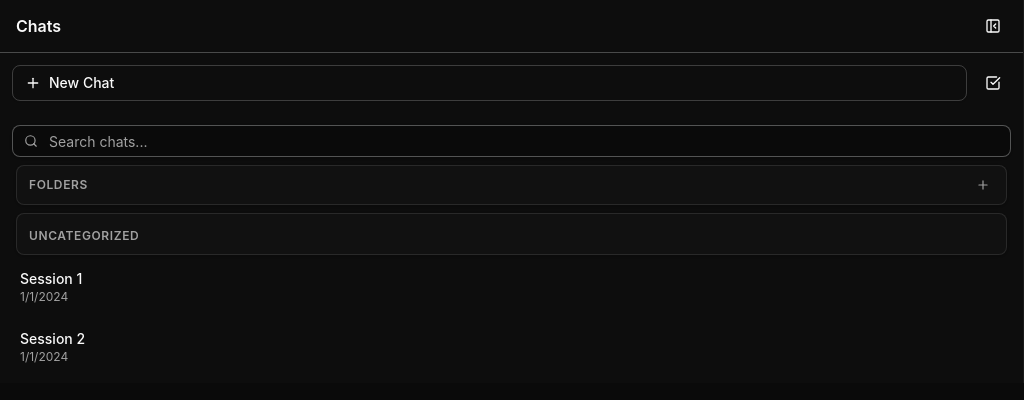
Test: SessionList › Search › should wrap around when navigating past last result
Type "Session" into the search field with placeholder "Search chats..." at (512, 141), box left=12, top=125, right=1011, bottom=157
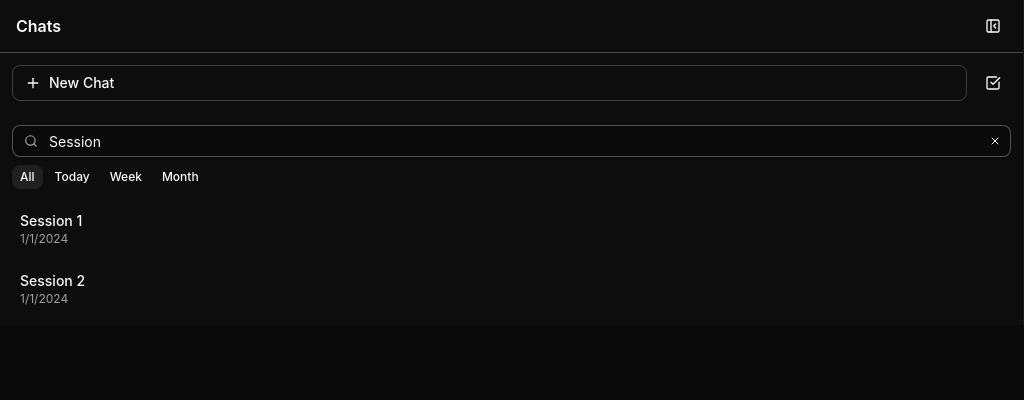
Note: Navigate down 3 times (2 sessions + wrap to first)
Press ArrowDown in the search field with placeholder "Search chats...", box left=12, top=125, right=1011, bottom=157
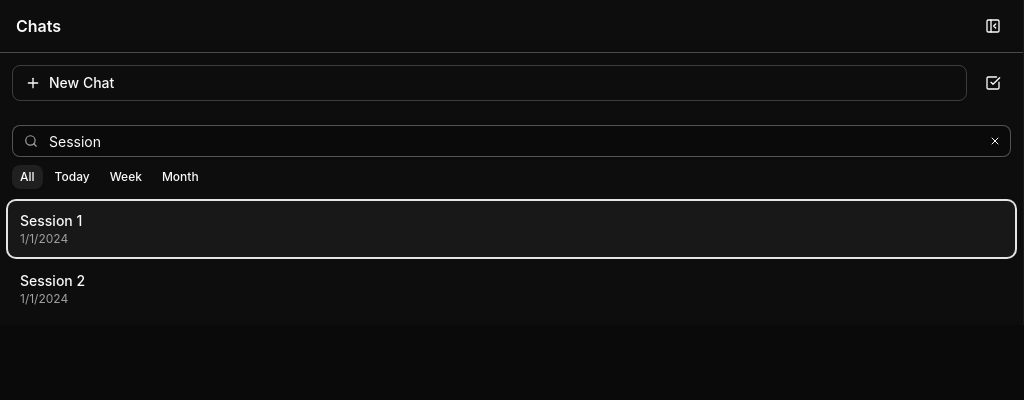
Press ArrowDown in the search field with placeholder "Search chats...", box left=12, top=125, right=1011, bottom=157
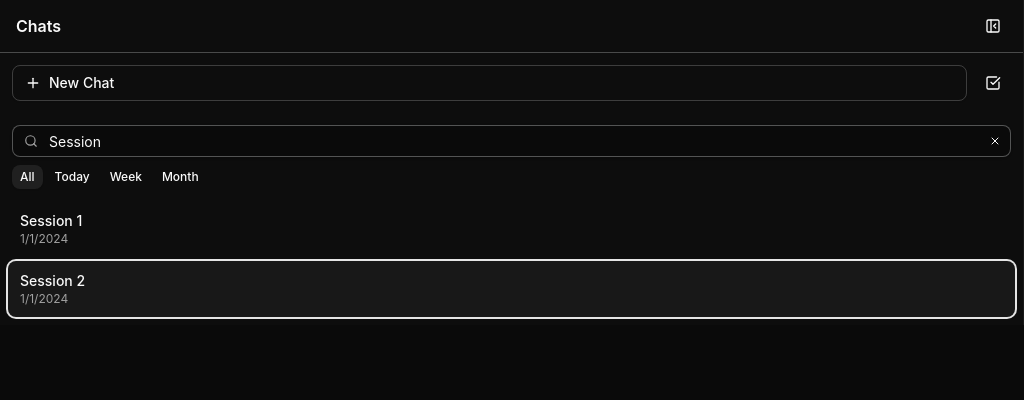
Press ArrowDown in the search field with placeholder "Search chats...", box left=12, top=125, right=1011, bottom=157
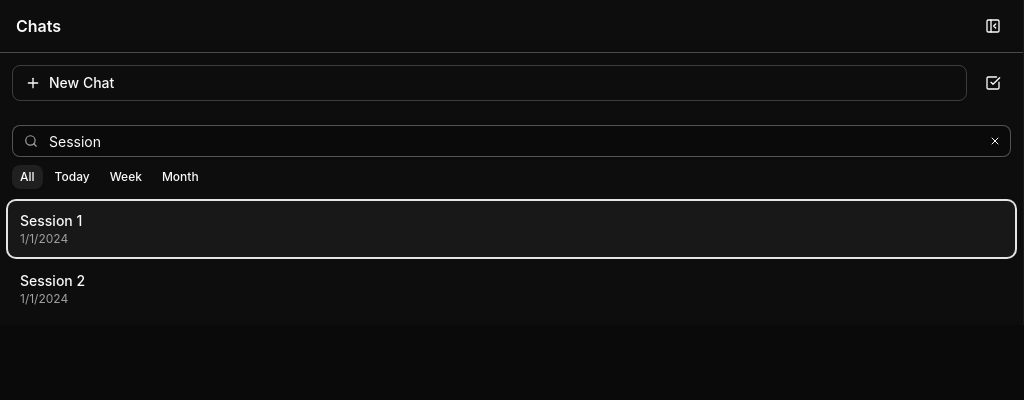
Now the element with class "ring-2" is shown, box left=8, top=201, right=1015, bottom=257
